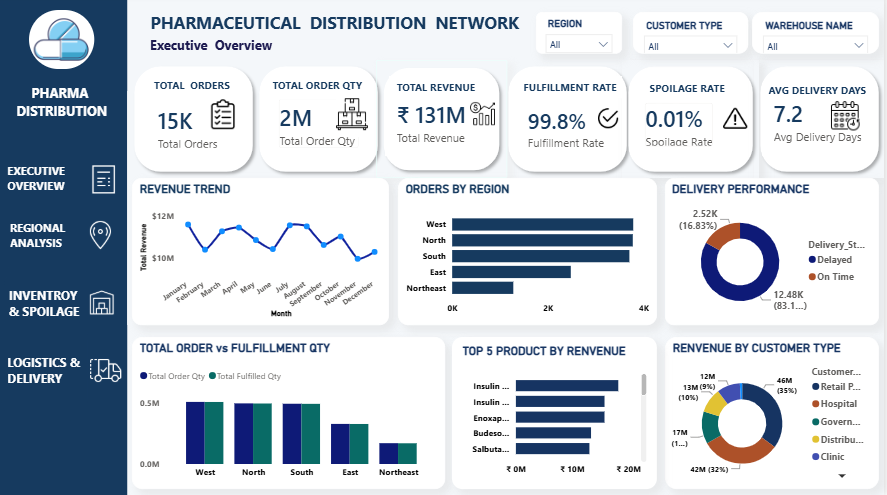

What the dashboard file says about the page in this screenshot:
{"tool":"powerbi","page":{"name":"Executive Overview","canvas":[1280,720],"ordinal":0},"visuals":[{"type":"shape","box":[0,0,190.1,720],"z":0},{"type":"textbox","box":[11.5,122.4,161.3,74.9],"z":1000},{"type":"textbox","box":[217.4,0,783.4,63.4],"z":2000},{"type":"textbox","box":[217.4,53.3,816.5,38.9],"z":3000},{"type":"shape","box":[190.1,92.2,188.6,169.9],"z":4000},{"type":"cardVisual","fields":{"Data":["Performance_Metrics.Total Orders"]},"box":[216,142.6,131,93.6],"z":5000},{"type":"textbox","box":[216,112.3,132.5,47.5],"z":6000},{"type":"image","box":[305.3,136.8,43.2,66.2],"z":7000},{"type":"shape","box":[370.1,92.2,188.6,169.9],"z":8000},{"type":"shape","box":[547.2,92.2,188.6,169.9],"z":9000},{"type":"shape","box":[728.6,92.2,188.6,169.9],"z":10000},{"type":"shape","box":[901.4,92.2,197.3,169.9],"z":11000},{"type":"cardVisual","fields":{"Data":["Performance_Metrics.Total Order Qty"]},"box":[390.2,131,149.8,105.1],"z":12000},{"type":"textbox","box":[393.1,112.3,142.6,37.4],"z":13000},{"type":"image","box":[489.6,138.2,46.1,64.8],"z":14000},{"type":"cardVisual","fields":{"Data":["Performance_Metrics.Total Revenue"]},"box":[560,132.9,141.1,97.9],"z":15000},{"type":"textbox","box":[565.9,115.2,135.4,36],"z":16000},{"type":"image","box":[682.6,148.3,36,41.8],"z":17000},{"type":"cardVisual","fields":{"Data":["Performance_Metrics.Fulfillment Rate"]},"box":[748.8,144,146.9,92.2],"z":18000},{"type":"textbox","box":[754.6,115.2,146.9,31.7],"z":19000},{"type":"image","box":[866.9,155.5,28.8,41.8],"z":20000},{"type":"cardVisual","fields":{"Data":["Performance_Metrics.Spoilage Rate"]},"box":[917.3,136.8,132.5,97.9],"z":21000},{"type":"image","box":[1046.9,152.6,34.6,47.5],"z":22000},{"type":"textbox","box":[936,116.6,128.2,30.2],"z":23000},{"type":"shape","box":[1091.5,92.2,188.6,169.9],"z":24000},{"type":"cardVisual","fields":{"Data":["Performance_Metrics.Avg Delivery Days"]},"box":[1102.9,131.4,162.9,98.6],"z":25000},{"type":"textbox","box":[1107.4,119.5,158.4,49],"z":26000},{"type":"image","box":[1201.4,144.3,44.3,57.1],"z":27000},{"type":"lineChart","title":"  REVENUE  TREND  ","fields":{"Category":["Pharma_Distribution.Order_Date.Variation.Date Hierarchy.Month","Pharma_Distribution.Order_Date.Variation.Date Hierarchy.Day"],"Y":["Performance_Metrics.Total Revenue"]},"box":[195.8,262.1,370.1,211.7],"z":28000},{"type":"clusteredBarChart","title":"     ORDERS BY REGION","fields":{"Category":["Pharma_Distribution.Region"],"Y":["Performance_Metrics.Total Orders"]},"box":[578.9,262.1,373,211.7],"z":29000},{"type":"clusteredColumnChart","title":"TOTAL ORDER vs FULFILLMENT QTY","fields":{"Category":["Pharma_Distribution.Region"],"Y":["Performance_Metrics.Total Order Qty","Performance_Metrics.Total Fulfilled Qty"]},"box":[195.8,491,450.7,218.9],"z":30000},{"type":"donutChart","title":"DELIVERY PERFORMANCE","fields":{"Category":["Pharma_Distribution.Delivery_Status"],"Y":["Performance_Metrics.Total Orders"]},"box":[963.4,262.1,308.2,211.7],"z":31000},{"type":"donutChart","title":"RENVENUE BY CUSTOMER TYPE","fields":{"Y":["Performance_Metrics.Total Revenue"],"Category":["Pharma_Distribution.Customer_Type"]},"box":[963.4,491,308.2,218.9],"z":32000},{"type":"clusteredBarChart","title":"TOP 5 PRODUCT BY RENVENUE","fields":{"Category":["Pharma_Distribution.Product_Name"],"Y":["Performance_Metrics.Total Revenue"]},"box":[656.6,491,295.2,218.9],"z":33000},{"type":"slicer","fields":{"Values":["Pharma_Distribution.Region"]},"box":[777.6,23,123.8,60.5],"z":34000},{"type":"slicer","fields":{"Values":["Pharma_Distribution.Customer_Type"]},"box":[917.3,23,165.6,60.5],"z":35000},{"type":"slicer","fields":{"Values":["Pharma_Distribution.Warehouse_Name"]},"box":[1088.6,23,182.9,60.5],"z":36000},{"type":"image","box":[47.5,20.2,93.6,85],"z":37000},{"type":"shape","box":[11.5,229,121,66.2],"z":37001},{"type":"shape","box":[11.5,285.1,141.1,118.1],"z":37002},{"type":"shape","box":[11.5,393.1,129.6,97.9],"z":37003},{"type":"shape","box":[7.2,463.7,125.3,148.3],"z":37004},{"type":"image","box":[126.7,421.9,50.4,38.9],"z":37007},{"type":"image","box":[123.8,321.1,53.3,44.6],"z":37008},{"type":"image","box":[132.5,236.2,44.6,56.2],"z":37009},{"type":"image","box":[132.5,515.5,50.4,44.6],"z":37010}]}

Visuals, with their boxes in screenshot pixels (x1, y1, x2, y2), scaled from the page's 1280x720 canvas onto the 887x495 screenshot:
shape: left=0, top=0, right=132, bottom=494
textbox: left=8, top=84, right=120, bottom=136
textbox: left=151, top=0, right=694, bottom=44
textbox: left=151, top=37, right=716, bottom=63
shape: left=132, top=63, right=262, bottom=180
cardVisual - Performance_Metrics.Total Orders: left=150, top=98, right=240, bottom=162
textbox: left=150, top=77, right=241, bottom=110
image: left=212, top=94, right=241, bottom=140
shape: left=256, top=63, right=387, bottom=180
shape: left=379, top=63, right=510, bottom=180
shape: left=505, top=63, right=636, bottom=180
shape: left=625, top=63, right=761, bottom=180
cardVisual - Performance_Metrics.Total Order Qty: left=270, top=90, right=374, bottom=162
textbox: left=272, top=77, right=371, bottom=103
image: left=339, top=95, right=371, bottom=140
cardVisual - Performance_Metrics.Total Revenue: left=388, top=91, right=486, bottom=159
textbox: left=392, top=79, right=486, bottom=104
image: left=473, top=102, right=498, bottom=131
cardVisual - Performance_Metrics.Fulfillment Rate: left=519, top=99, right=621, bottom=162
textbox: left=523, top=79, right=625, bottom=101
image: left=601, top=107, right=621, bottom=136
cardVisual - Performance_Metrics.Spoilage Rate: left=636, top=94, right=727, bottom=161
image: left=725, top=105, right=749, bottom=138
textbox: left=649, top=80, right=737, bottom=101
shape: left=756, top=63, right=886, bottom=180
cardVisual - Performance_Metrics.Avg Delivery Days: left=764, top=90, right=877, bottom=158
textbox: left=767, top=82, right=877, bottom=116
image: left=833, top=99, right=863, bottom=138
"  REVENUE  TREND  " lineChart: left=136, top=180, right=392, bottom=326
"     ORDERS BY REGION" clusteredBarChart: left=401, top=180, right=660, bottom=326
"TOTAL ORDER vs FULFILLMENT QTY" clusteredColumnChart: left=136, top=338, right=448, bottom=488
"DELIVERY PERFORMANCE" donutChart: left=668, top=180, right=881, bottom=326
"RENVENUE BY CUSTOMER TYPE" donutChart: left=668, top=338, right=881, bottom=488
"TOP 5 PRODUCT BY RENVENUE" clusteredBarChart: left=455, top=338, right=660, bottom=488
slicer - Pharma_Distribution.Region: left=539, top=16, right=625, bottom=57
slicer - Pharma_Distribution.Customer_Type: left=636, top=16, right=750, bottom=57
slicer - Pharma_Distribution.Warehouse_Name: left=754, top=16, right=881, bottom=57
image: left=33, top=14, right=98, bottom=72
shape: left=8, top=157, right=92, bottom=203
shape: left=8, top=196, right=106, bottom=277
shape: left=8, top=270, right=98, bottom=338
shape: left=5, top=319, right=92, bottom=421
image: left=88, top=290, right=123, bottom=317
image: left=86, top=221, right=123, bottom=251
image: left=92, top=162, right=123, bottom=201
image: left=92, top=354, right=127, bottom=385
